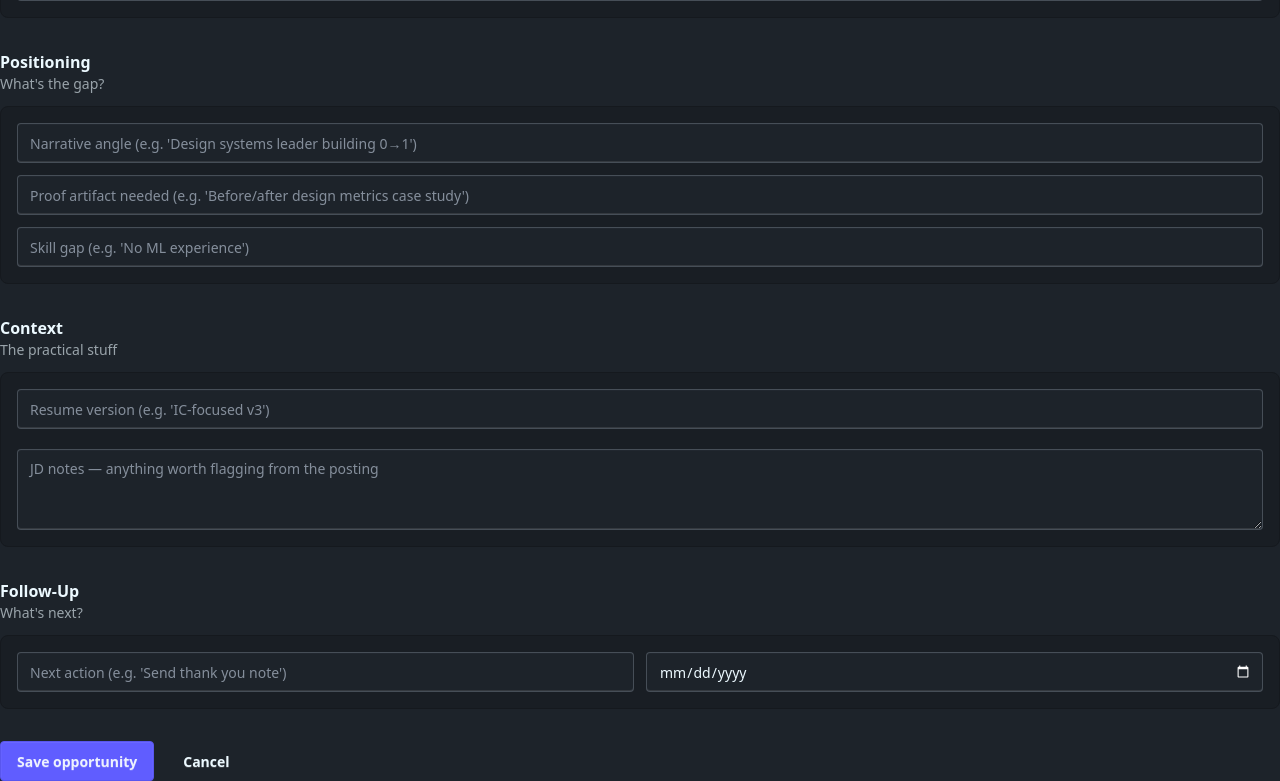
it: OpportunityForm › submit button › shows company and role errors when submitting empty form
(page scrolled)
Click the button "Save opportunity" at (77, 761), box [0,741,154,780]
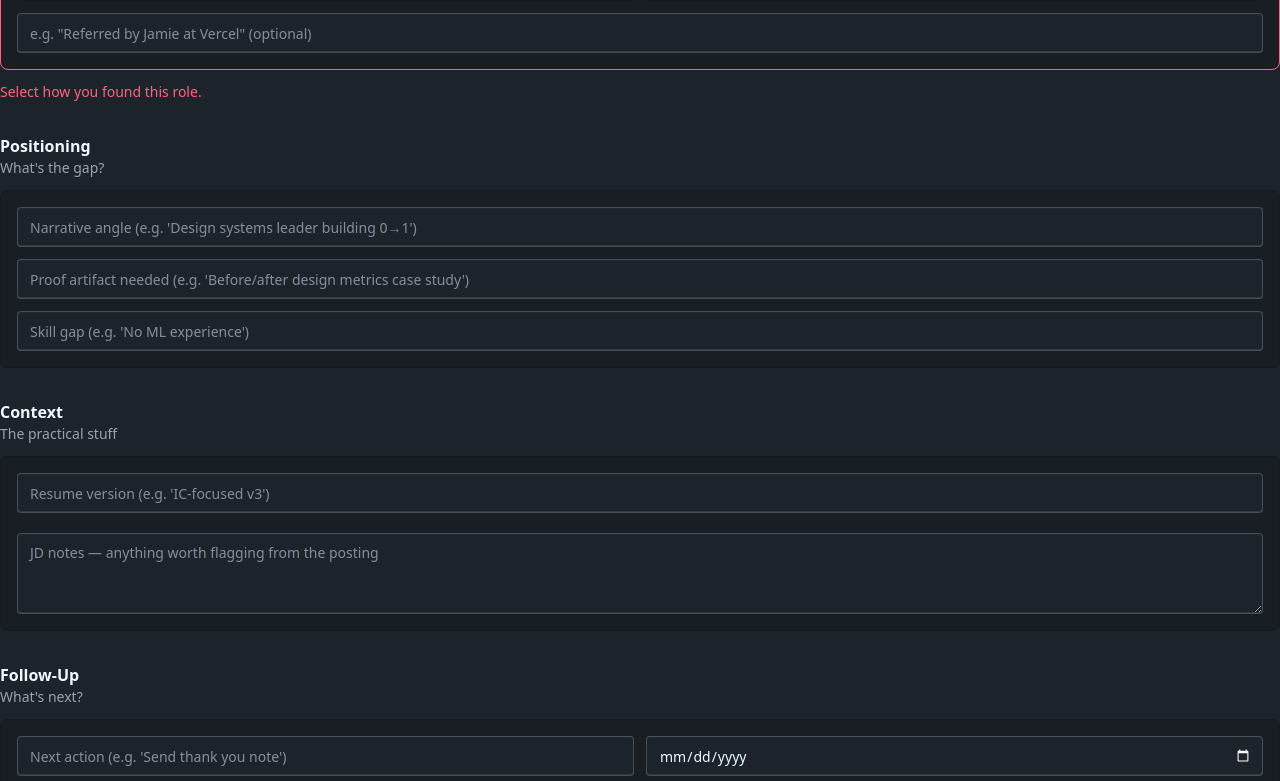
Result: the text "Select how you found this role." is shown at [0,82,202,101]
